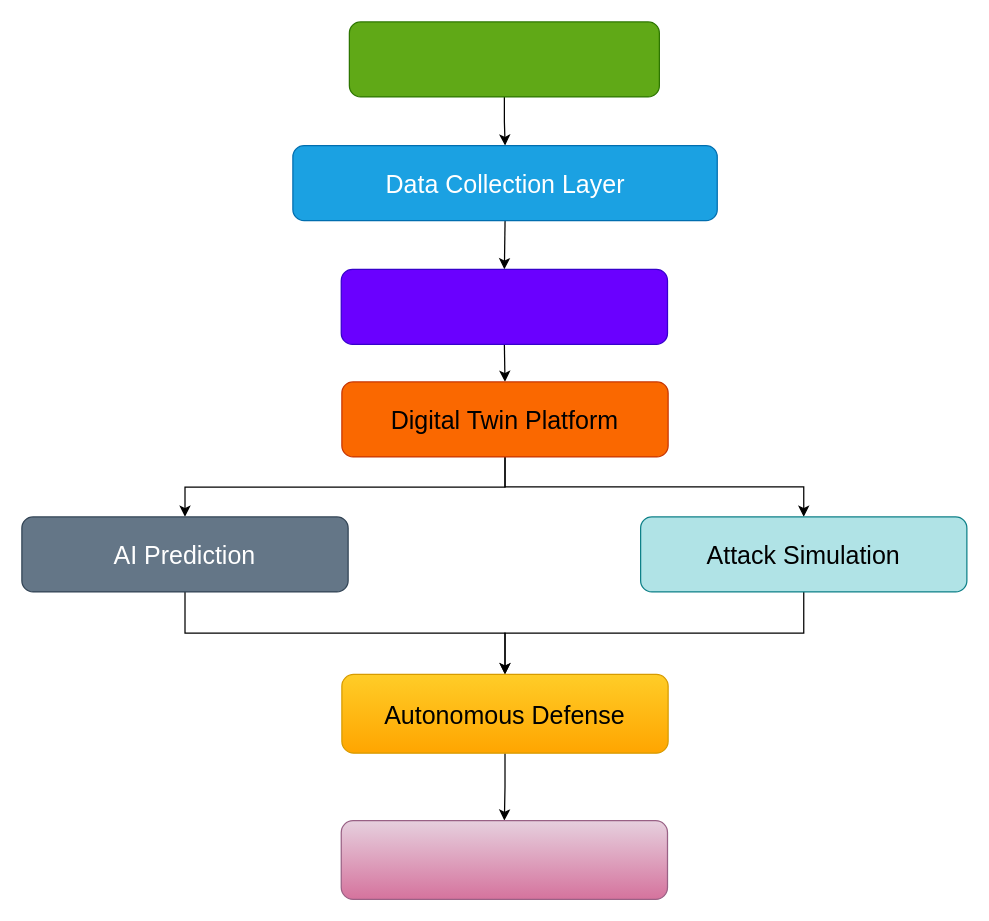
The diagram is 989 pixels wide and 921 high, and some of its shapes have lost their labels. The shapes that lost their labels are listed below. From the top down, each one's centre as x and y in pixels, then its label:
At (x=503, y=59): "Enterprise Infrastructure".
At (x=504, y=306): "Hybrid Cryptography".
At (x=504, y=859): "Security Dashboard".
